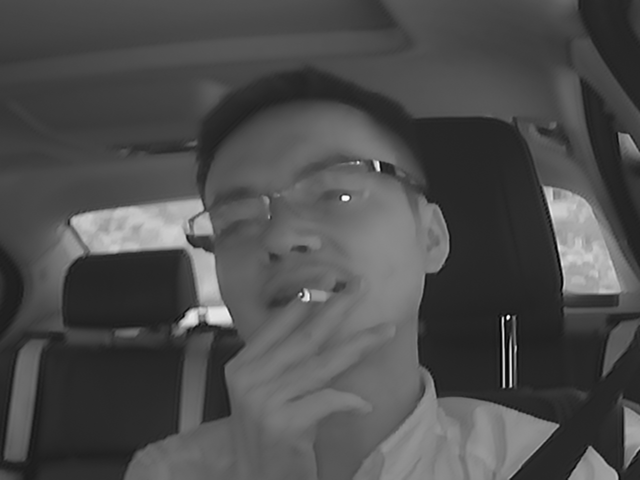hand: (247, 277, 385, 439)
